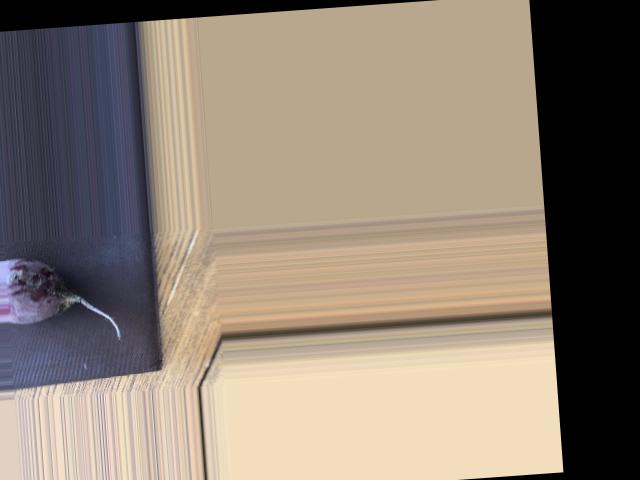beet: (4, 251, 121, 346)
